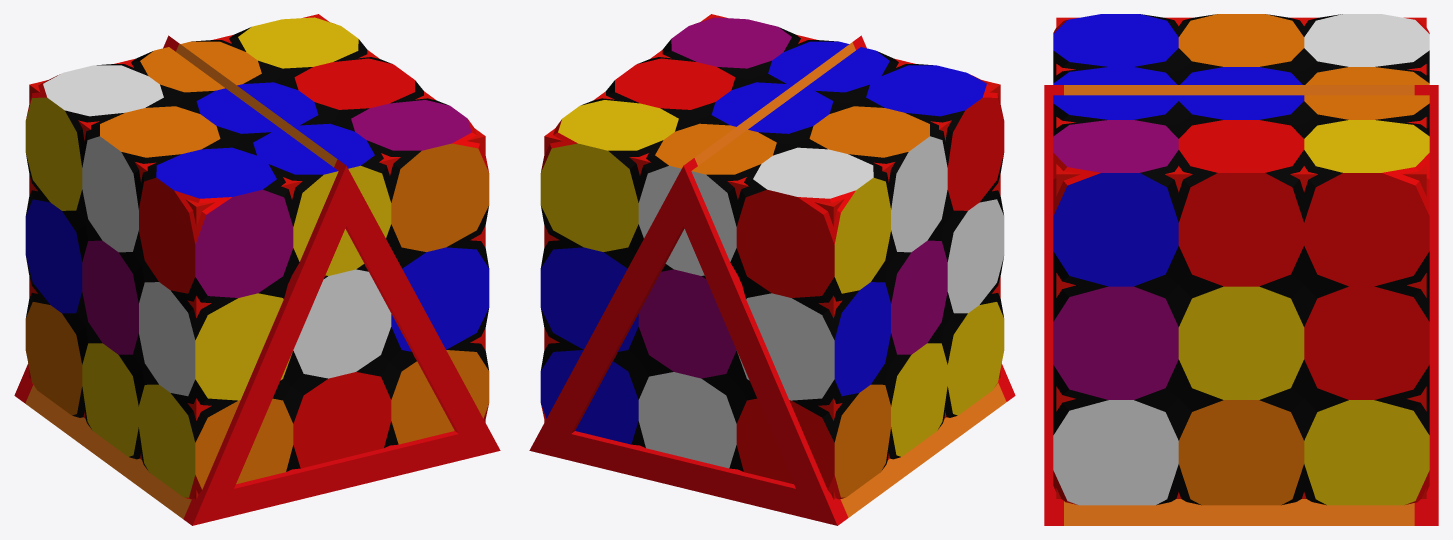
Rendered from assorted_toys.glb.
3 views of the same model, side by side, from view 1: azimuth 30°, elevation 25°; view 2: azimuth 150°, elevation 25°; view 3: azimuth 270°, elevation 25° (orthographic). The views are drawn at different scales.
Parts seen in each view (by area): view 1: Rubik, TriangleWoodBlock, WoodenBlock; view 2: Rubik, TriangleWoodBlock, WoodenBlock; view 3: Rubik, TriangleWoodBlock, WoodenBlock.
Boxes of the visible parts, left/top/right/bottom form: Rubik: left=25, top=17, right=489, bottom=499; TriangleWoodBlock: left=14, top=35, right=500, bottom=525; WoodenBlock: left=29, top=14, right=485, bottom=499; Rubik: left=540, top=17, right=1004, bottom=499; TriangleWoodBlock: left=529, top=35, right=1015, bottom=525; WoodenBlock: left=544, top=14, right=1000, bottom=499; Rubik: left=1053, top=14, right=1429, bottom=505; TriangleWoodBlock: left=1044, top=85, right=1438, bottom=525; WoodenBlock: left=1056, top=17, right=1426, bottom=498.
Size of the model in its own units: 0.4048 by 0.4048 by 0.4048.
